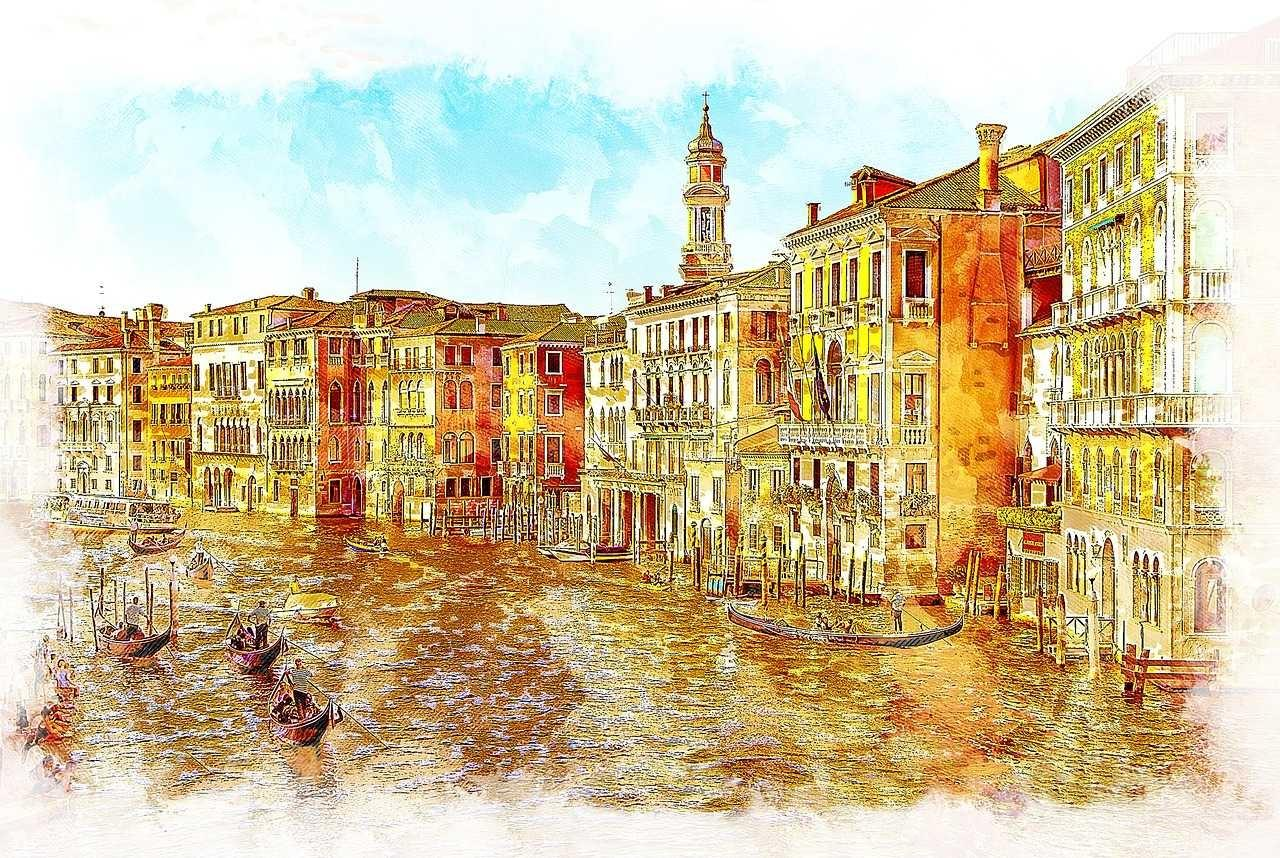kayak: (725, 602, 967, 648), (87, 562, 180, 662), (45, 494, 185, 542), (270, 677, 340, 744), (91, 620, 173, 662), (223, 621, 288, 673), (1121, 656, 1219, 687), (48, 509, 126, 544), (277, 583, 340, 617), (543, 539, 628, 561), (128, 529, 187, 554), (344, 532, 388, 556)
